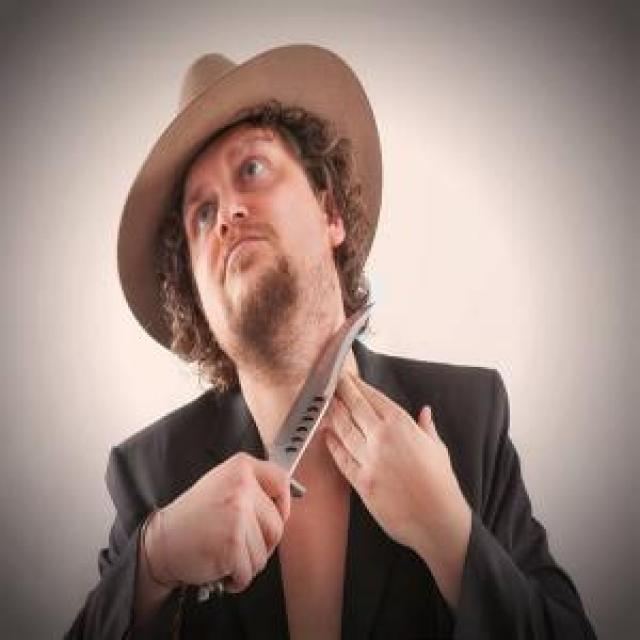knife: (190, 292, 374, 608)
